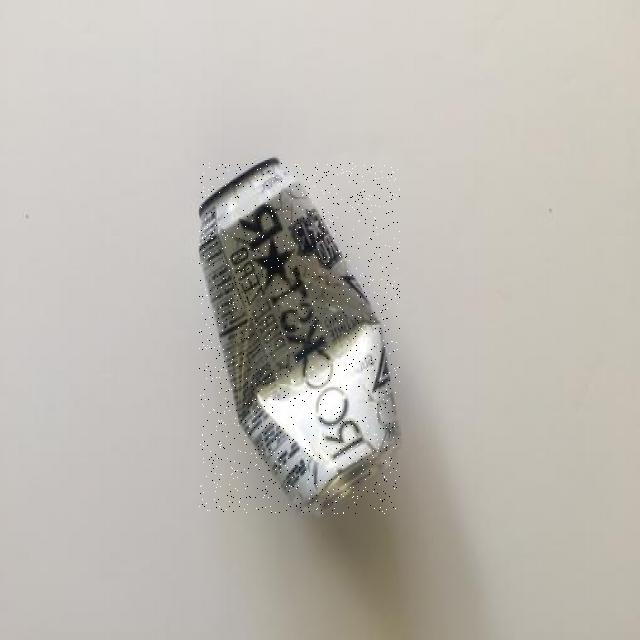metal: (200, 163, 400, 513)
